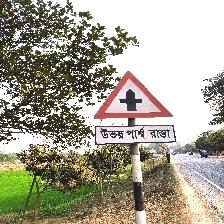Crossroad: (95, 70, 176, 145)
